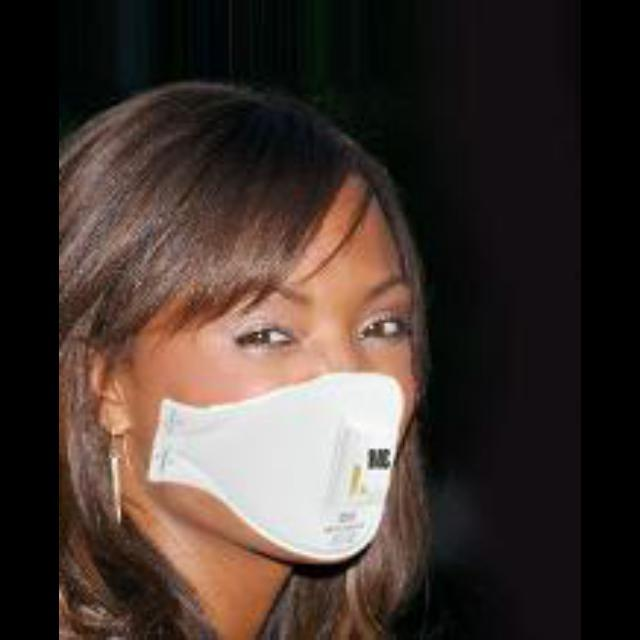suspicion: (107, 82, 421, 572)
